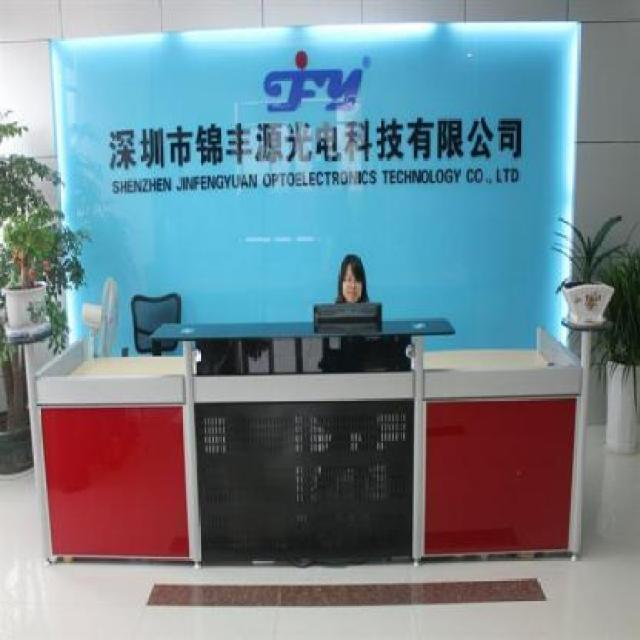frontdesk: (34, 302, 588, 578)
